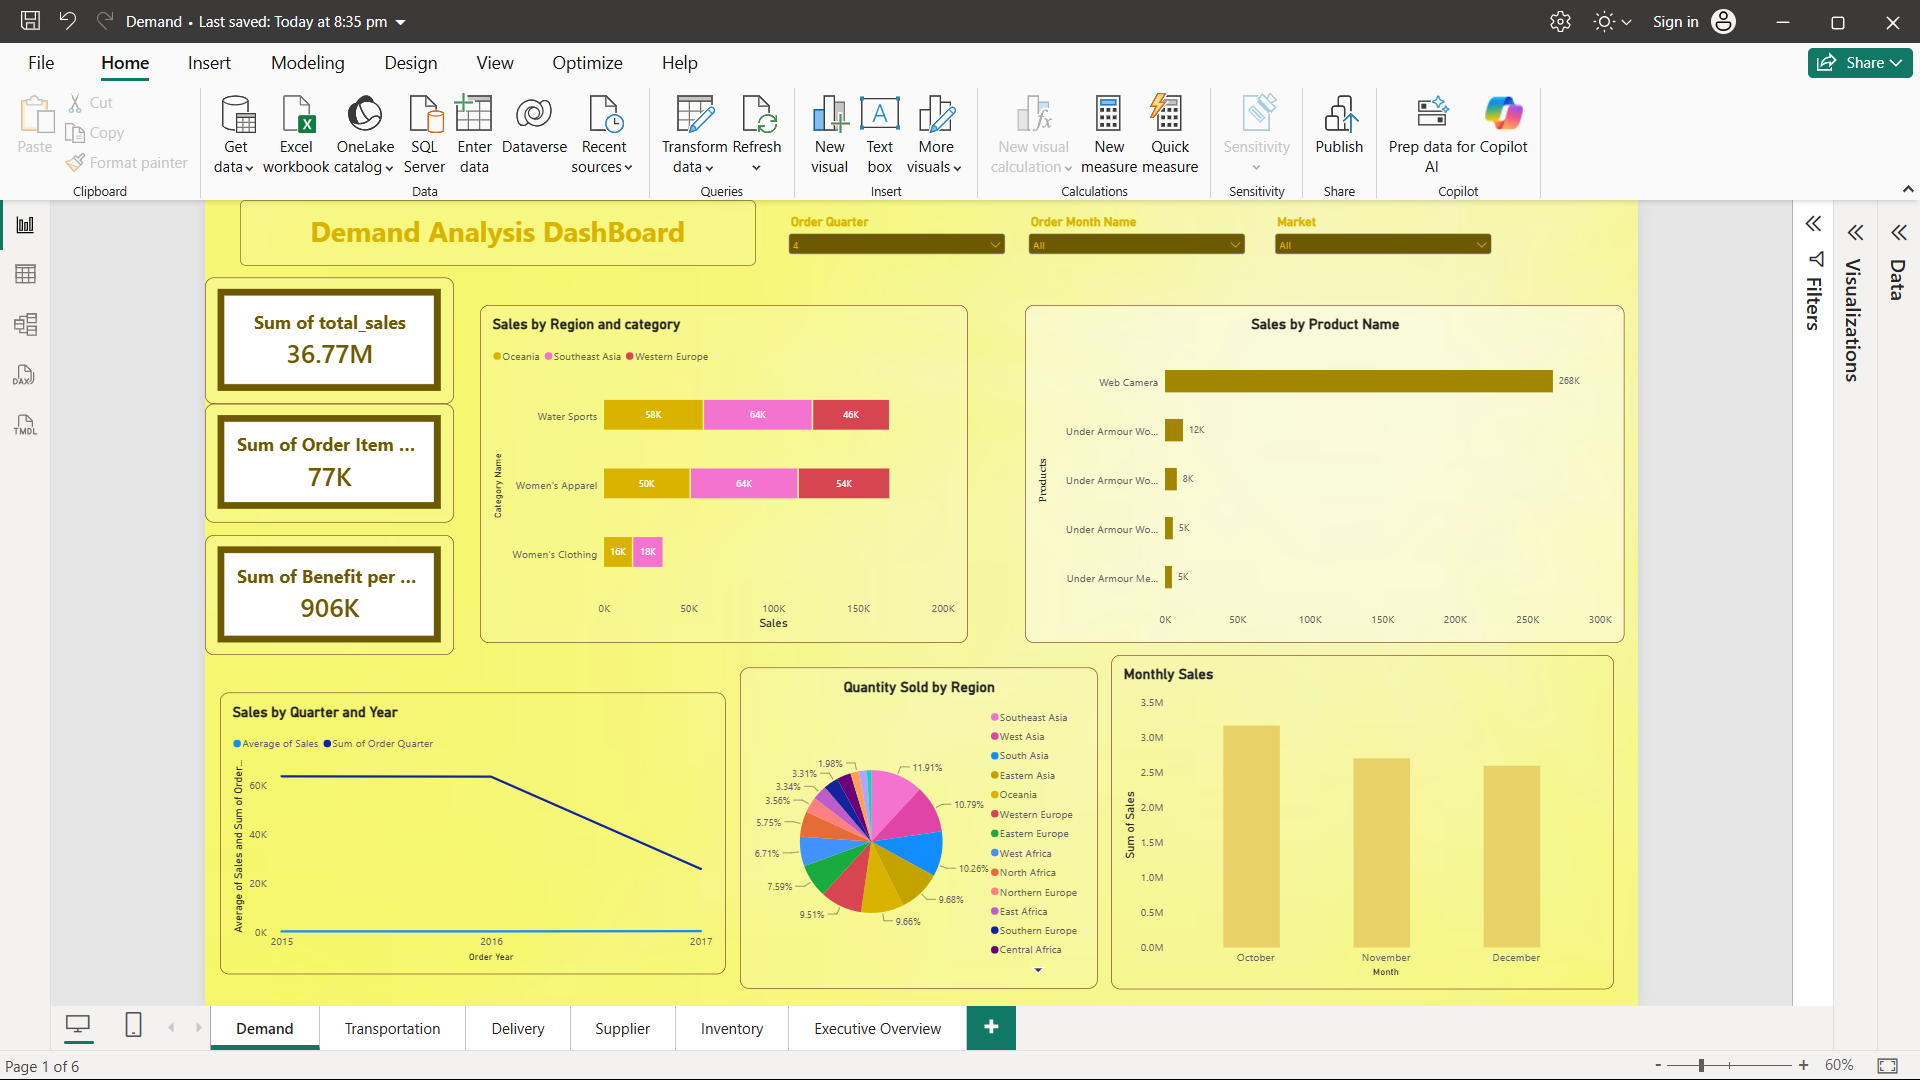

What the dashboard file says about the page in this screenshot:
{"tool":"powerbi","page":{"name":"Page 1","canvas":[1920,1080],"ordinal":0},"visuals":[{"type":"textbox","box":[46.4,0,690.9,88.3],"z":0},{"type":"barChart","title":"Sales by Product Name","fields":{"Category":["Cleaned_Supply_chain(csv).Product Name"],"Y":["Sum(Cleaned_Supply_chain(csv).Sales)"]},"box":[1099.3,141.3,803.5,452.5],"z":1000},{"type":"lineChart","title":"Sales by Quarter and Year","fields":{"Category":["Cleaned_Supply_chain(csv).Order Year"],"Y":["Avg(Cleaned_Supply_chain(csv).Sales)","Sum(Cleaned_Supply_chain(csv).Order Quarter)"]},"box":[19.9,660,677.7,377.5],"z":2000},{"type":"barChart","title":"Sales by Region and category","fields":{"Category":["Cleaned_Supply_chain(csv).Category Name"],"Series":["Cleaned_Supply_chain(csv).Order Region"],"Y":["Sum(Cleaned_Supply_chain(csv).Sales)"]},"box":[368.6,141.3,653.4,452.5],"z":3000},{"type":"pieChart","title":"Quantity Sold by Region","fields":{"Category":["Cleaned_Supply_chain(csv).Order Region"],"Y":["Sum(Cleaned_Supply_chain(csv).Order Item Quantity)"]},"box":[717.4,626.9,479,430.4],"z":4000},{"type":"columnChart","title":"Monthly Sales","fields":{"Category":["Cleaned_Supply_chain(csv).Order date (DateOrders).Variation.Date Hierarchy.Month"],"Y":["Sum(Cleaned_Supply_chain(csv).Sales)"]},"box":[1214.1,609.2,673.3,448.1],"z":5000},{"type":"cardVisual","fields":{"Data":["Sum(Demand_analysis.total_sales)"]},"box":[0,103.7,333.3,170],"z":6000},{"type":"cardVisual","fields":{"Data":["Sum(Cleaned_Supply_chain(csv).Benefit per order)"]},"box":[0,448.1,333.3,161.1],"z":7000},{"type":"cardVisual","fields":{"Data":["Sum(Cleaned_Supply_chain(csv).Order Item Quantity)"]},"box":[0,273.7,333.3,158.9],"z":8000},{"type":"slicer","fields":{"Values":["Cleaned_Supply_chain(csv).Order Quarter"]},"box":[777,17.7,300.2,103.7],"z":9000},{"type":"slicer","fields":{"Values":["Cleaned_Supply_chain(csv).Order Month Name"]},"box":[1099.3,17.7,300.2,103.7],"z":10000},{"type":"slicer","fields":{"Values":["Cleaned_Supply_chain(csv).Market"]},"box":[1428.2,17.7,300.2,103.7],"z":11000}]}

Visuals, with their boxes on the page's 1920x1080 design canvas (x1, y1, x2, y2). These are canvas units, not pixel positions in the 1920x1080 screenshot, which may show the page scaled, cropped or inside an application window:
textbox: [46, 0, 737, 88]
"Sales by Product Name" barChart: [1099, 141, 1903, 594]
"Sales by Quarter and Year" lineChart: [20, 660, 698, 1038]
"Sales by Region and category" barChart: [369, 141, 1022, 594]
"Quantity Sold by Region" pieChart: [717, 627, 1196, 1057]
"Monthly Sales" columnChart: [1214, 609, 1887, 1057]
cardVisual - Sum(Demand_analysis.total_sales): [0, 104, 333, 274]
cardVisual - Sum(Cleaned_Supply_chain(csv).Benefit per order): [0, 448, 333, 609]
cardVisual - Sum(Cleaned_Supply_chain(csv).Order Item Quantity): [0, 274, 333, 433]
slicer - Cleaned_Supply_chain(csv).Order Quarter: [777, 18, 1077, 121]
slicer - Cleaned_Supply_chain(csv).Order Month Name: [1099, 18, 1400, 121]
slicer - Cleaned_Supply_chain(csv).Market: [1428, 18, 1728, 121]
